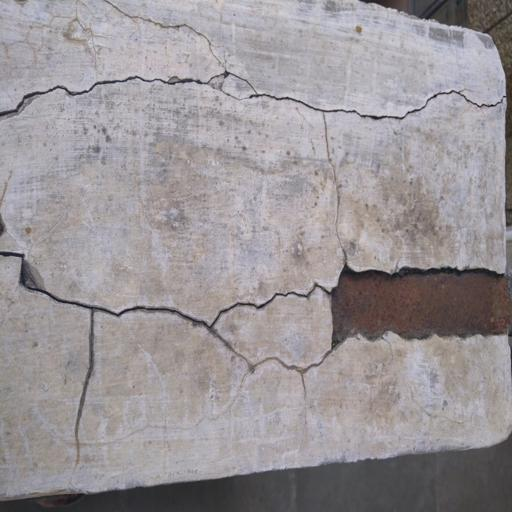major_crack: (0, 191, 509, 427), (0, 0, 501, 172)
